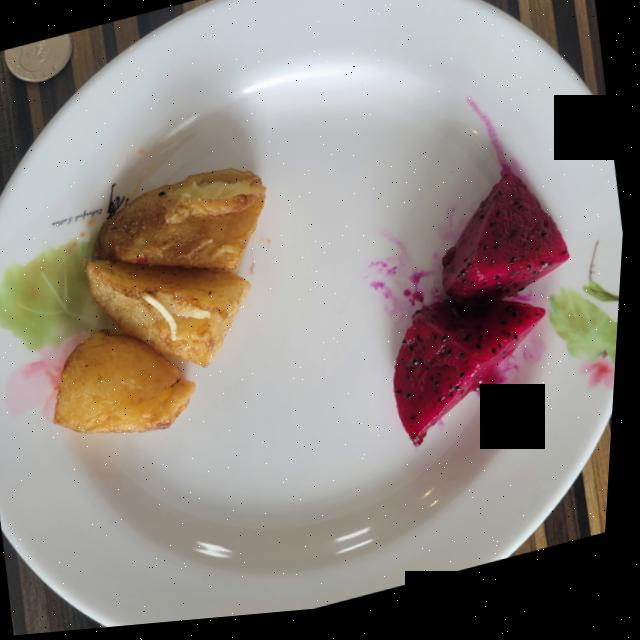coin: (4, 34, 73, 83)
fried potato: (58, 172, 268, 435)
